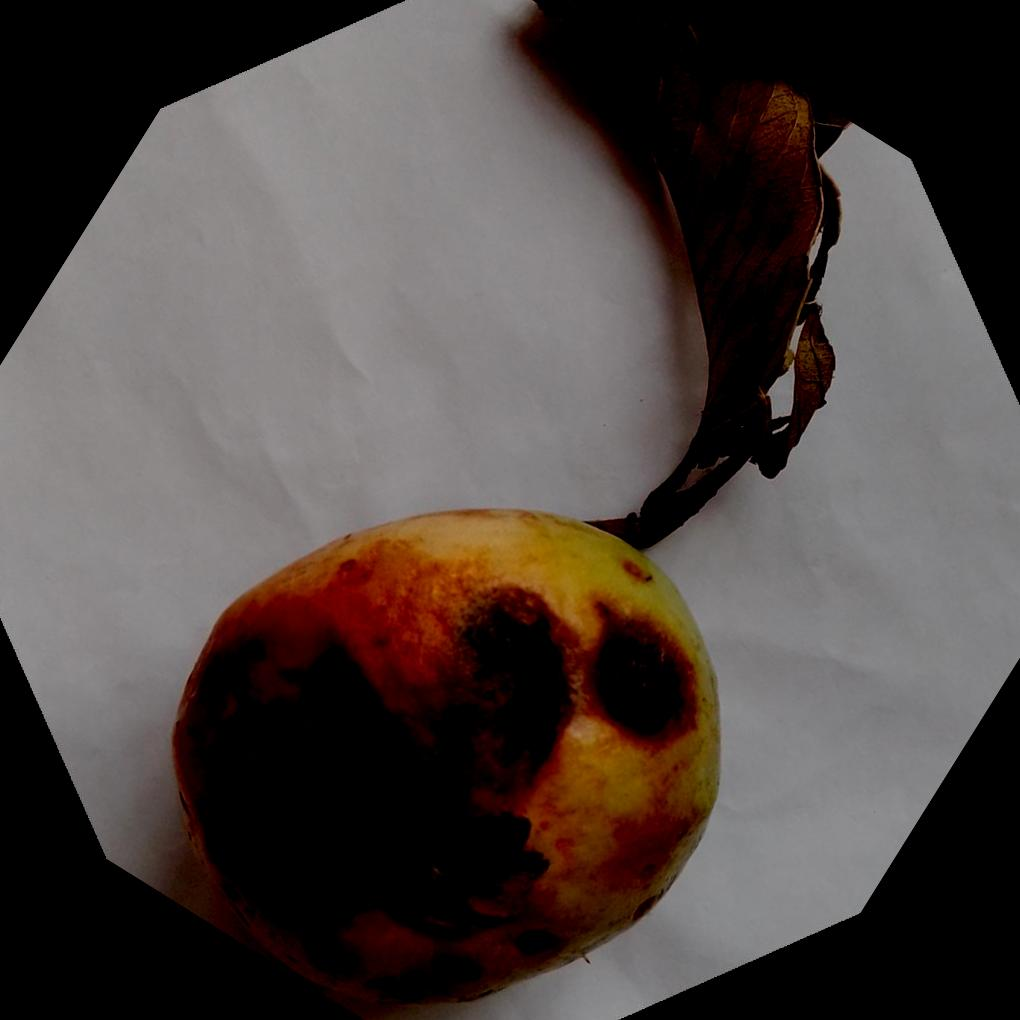FreshOrange: (167, 509, 721, 1012)
